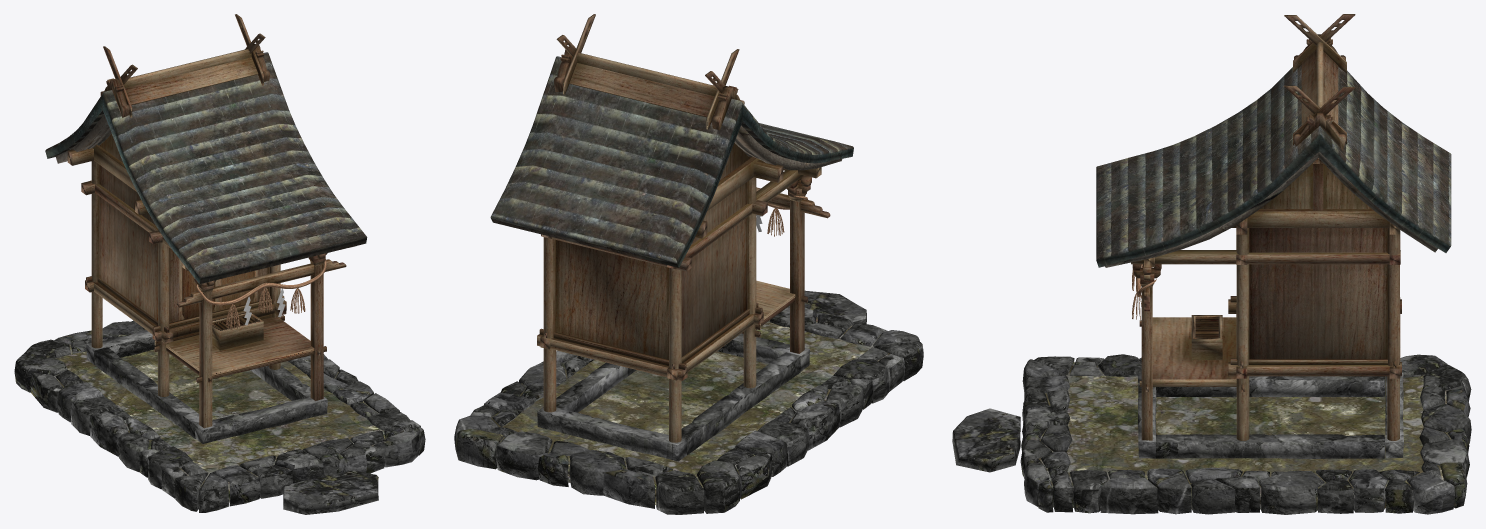
Rendered from Massya.fbx.
The picture shows the model from 3 angles, left to right: view 1: azimuth 30°, elevation 25°; view 2: azimuth 150°, elevation 25°; view 3: azimuth 270°, elevation 25°; orthographic projection. The views are drawn at different scales.
Visible parts, largest first — view 1: Massya.Shape; view 2: Massya.Shape; view 3: Massya.Shape.
Boxes of the visible parts, x1,y1,x2,y2 form: Massya.Shape: (14,14,425,514); Massya.Shape: (454,14,923,514); Massya.Shape: (952,14,1471,514).
Bounding box in the file's own units: 295 × 400 × 474.
